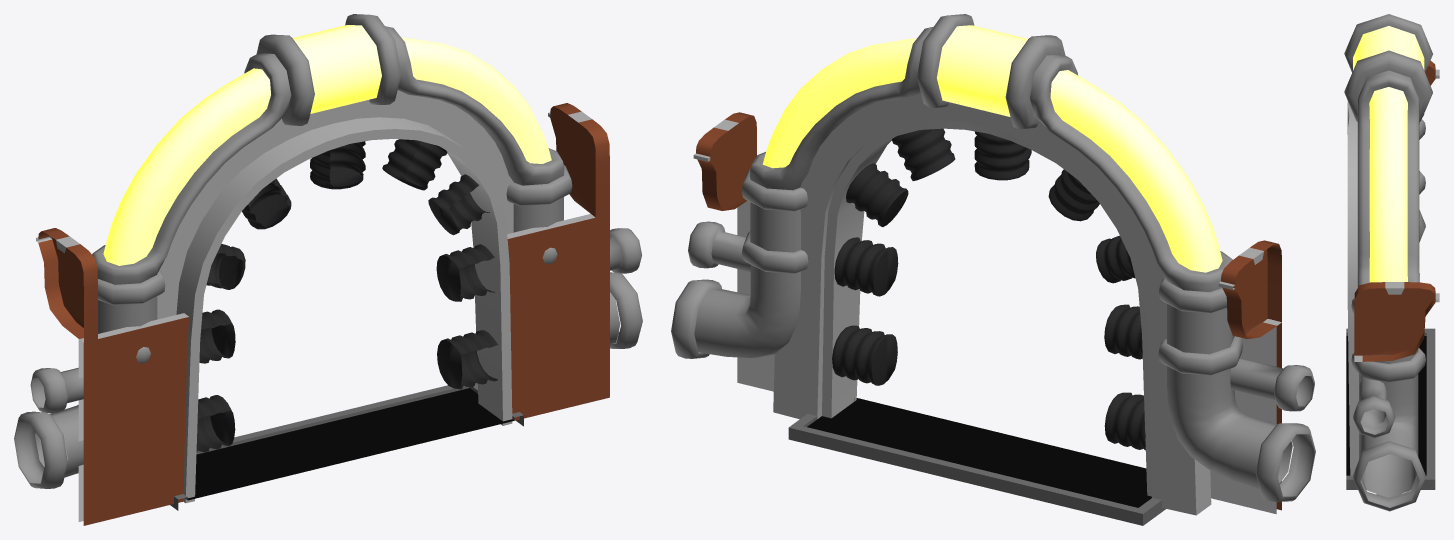
The model's file is mesh_Factory_Door_Arc.fbx.
3 renders of one model, left to right at view 1: azimuth 30°, elevation 25°; view 2: azimuth 150°, elevation 25°; view 3: azimuth 270°, elevation 25°, orthographic. The views are drawn at different scales.
Visible parts, largest first — view 1: mesh_Factory_Door_Arc; view 2: mesh_Factory_Door_Arc; view 3: mesh_Factory_Door_Arc.
Boxes of the visible parts, left/top/right/bottom form: mesh_Factory_Door_Arc: left=14, top=14, right=642, bottom=525; mesh_Factory_Door_Arc: left=671, top=14, right=1315, bottom=525; mesh_Factory_Door_Arc: left=1344, top=14, right=1439, bottom=511.
Bounding box in the file's own units: 5.64 × 3.84 × 0.8737.
